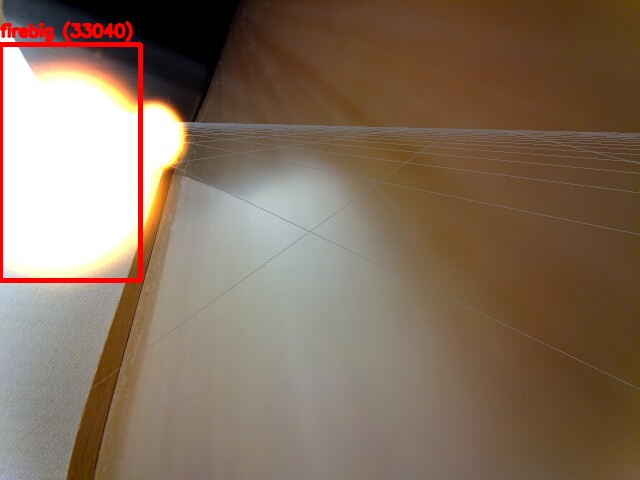firebig: (0, 44, 140, 280)
